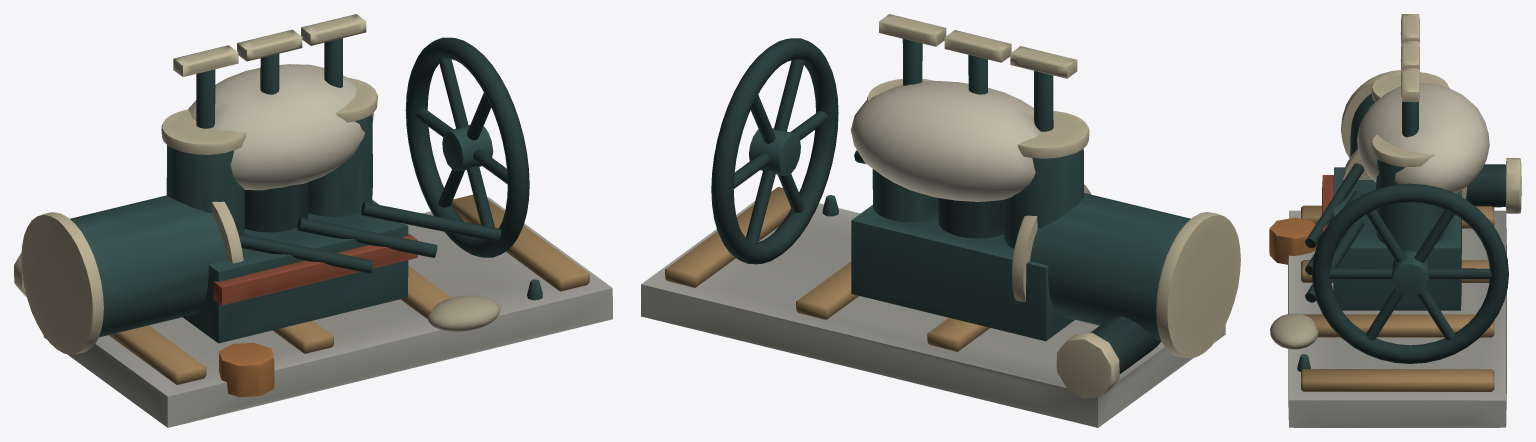
File: pump_engine_a_lod1.glb
The picture shows the model from 3 angles, left to right: view 1: azimuth 30°, elevation 25°; view 2: azimuth 150°, elevation 25°; view 3: azimuth 270°, elevation 25°; orthographic projection. The views are drawn at different scales.
Visible parts, largest first — view 1: Surface.001; view 2: Surface.001; view 3: Surface.001.
Boxes of the visible parts, x1,y1,x2,y2 form: Surface.001: (14,14,612,427); Surface.001: (641,14,1240,427); Surface.001: (1269,14,1521,427).
Size of the model in its own units: 7.7 by 4.45 by 3.91.
